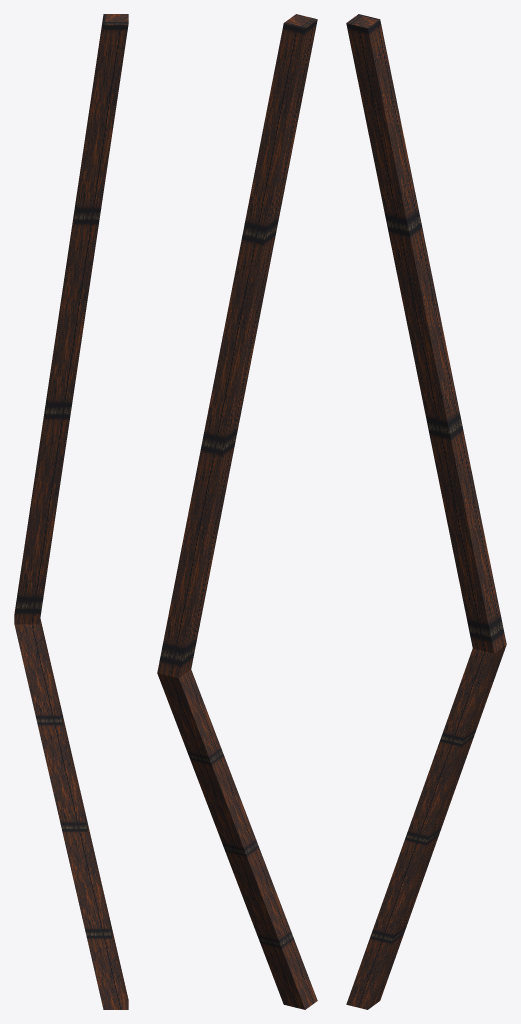
Rendered from lig3.glb.
3 views of the same model, side by side, from view 1: azimuth 90°, elevation 25°; view 2: azimuth 150°, elevation 25°; view 3: azimuth 330°, elevation 25° (orthographic).
Parts seen in each view (by area): view 1: Plane.002; view 2: Plane.002; view 3: Plane.002.
Part boxes in pixels (x1,y1,x2,y2): Plane.002: (14, 14, 128, 1009); Plane.002: (157, 14, 317, 1009); Plane.002: (346, 14, 506, 1009).
Size of the model in its own units: 0.9135 by 8.26 by 0.8664.
Materials: 1 (1 with a texture image).
